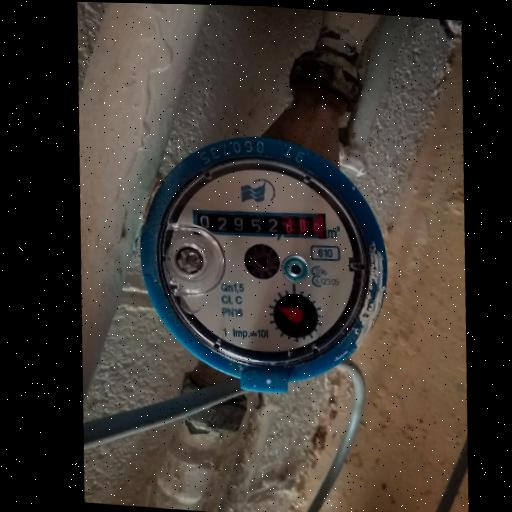0: (196, 213, 215, 233), (295, 216, 312, 236)
2: (212, 213, 233, 233), (263, 215, 282, 235)
5: (246, 214, 267, 235)
6: (280, 216, 298, 236)
9: (308, 212, 327, 239), (230, 213, 249, 234)
border_water_meter_number: (190, 204, 329, 245)
